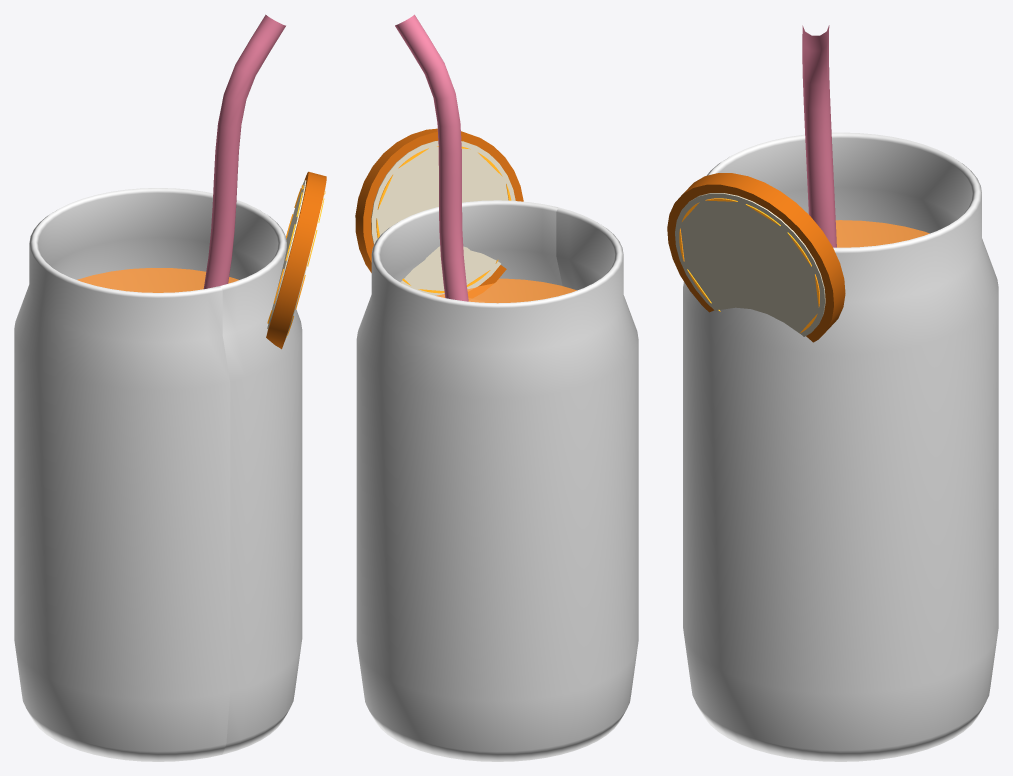
The model's file is tradao.glb.
3 renders of one model, left to right at view 1: azimuth 30°, elevation 25°; view 2: azimuth 150°, elevation 25°; view 3: azimuth 270°, elevation 25°, orthographic. The views are drawn at different scales.
Visible parts, largest first — view 1: glass, straw, garnish (×2), liquid; view 2: glass, garnish (×3), straw, liquid; view 3: glass, garnish (×3), straw, liquid.
Part boxes in pixels (x1,y1,x2,y2): glass: [14, 188, 302, 761]; straw: [203, 14, 285, 289]; garnish (×2): [266, 171, 326, 349]; liquid: [77, 268, 238, 292]; glass: [356, 200, 638, 761]; garnish (×3): [355, 128, 523, 297]; straw: [395, 14, 468, 301]; liquid: [435, 278, 576, 303]; glass: [683, 132, 998, 761]; garnish (×3): [667, 173, 845, 342]; straw: [802, 25, 836, 247]; liquid: [835, 220, 929, 247].
Size of the model in its own units: 0.0841 by 0.1967 by 0.0798.
